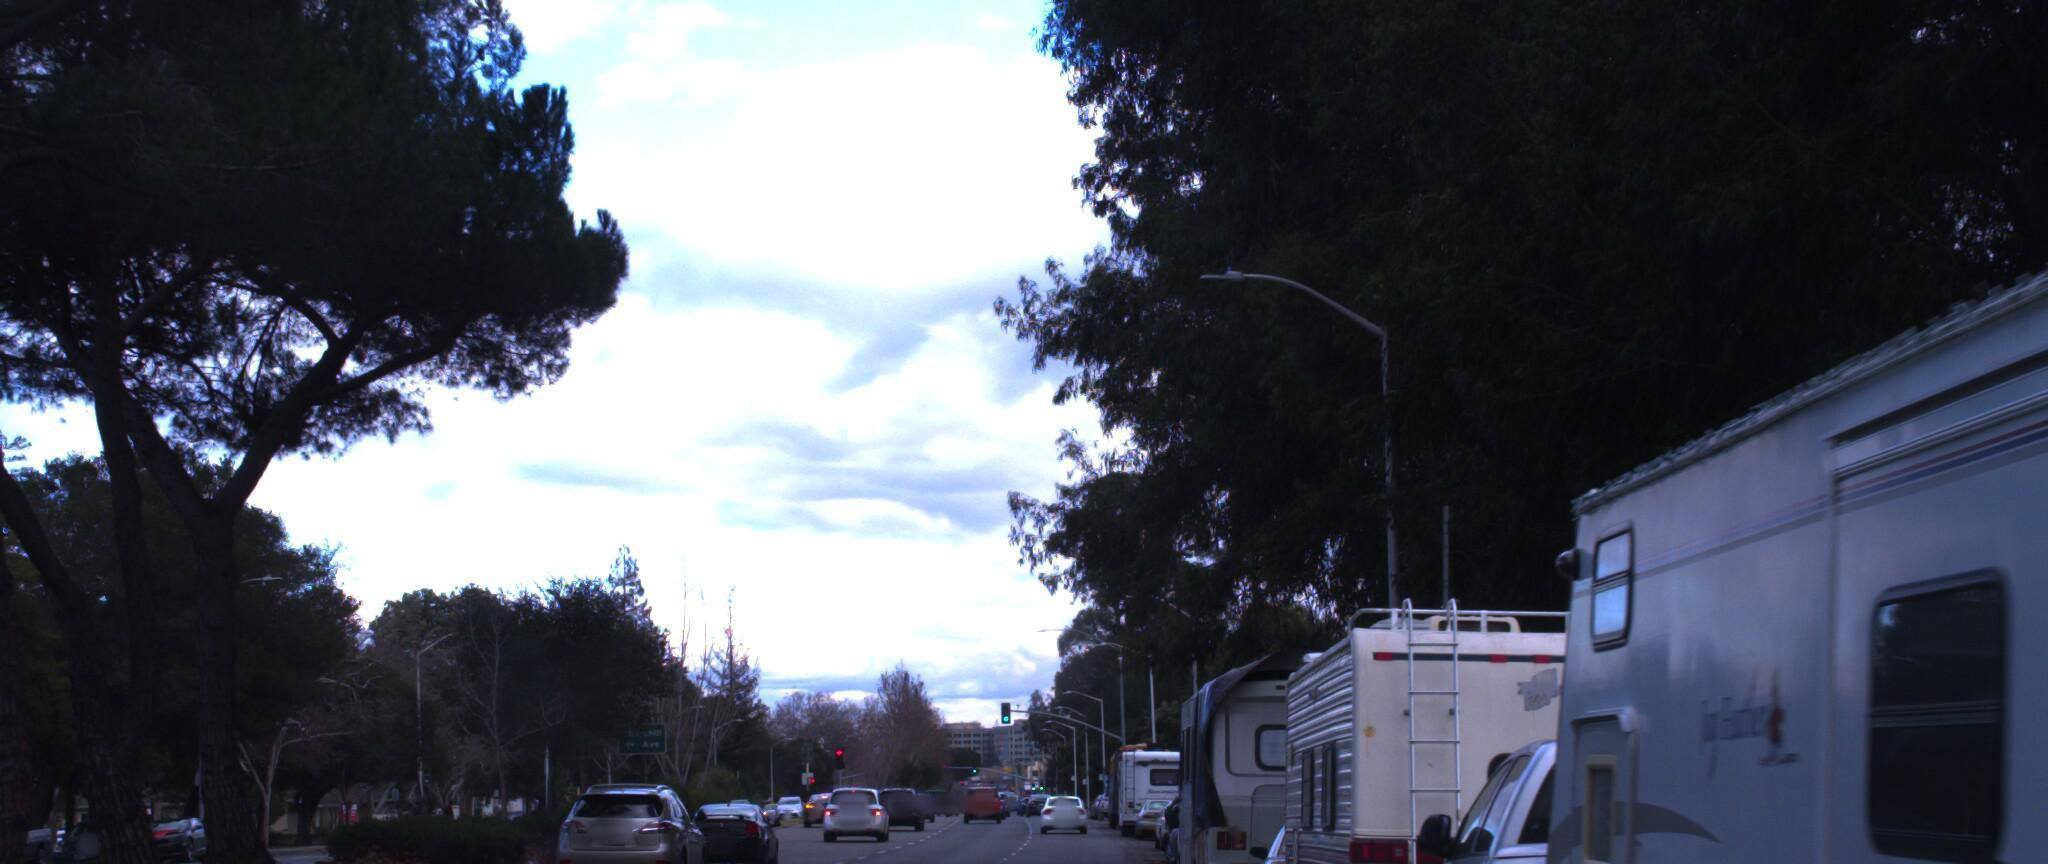car: (1381, 706, 2048, 864), (558, 773, 718, 864), (1246, 795, 1421, 864), (677, 773, 784, 857), (0, 754, 57, 864)
other_vehicle: (1469, 0, 2048, 864), (1251, 563, 1793, 864), (1168, 626, 1418, 864)
